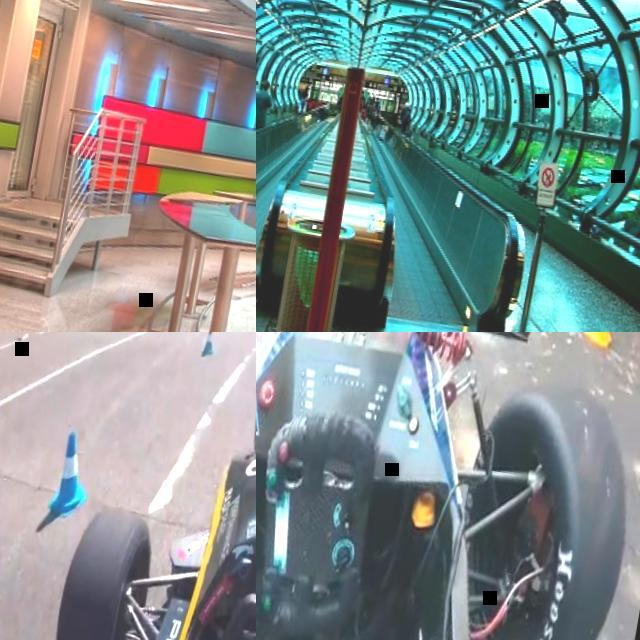no_helmet: (260, 79, 271, 91), (405, 101, 410, 108), (372, 98, 374, 103), (304, 94, 306, 98)
no_vest: (256, 87, 271, 124), (401, 106, 412, 120), (368, 103, 377, 117), (301, 97, 307, 106)
person: (256, 78, 277, 133), (399, 100, 414, 132), (366, 97, 378, 123), (300, 94, 308, 112)
safety_cone: (48, 421, 92, 514), (200, 332, 221, 354)
vehicle: (256, 332, 640, 640), (37, 414, 256, 640)
